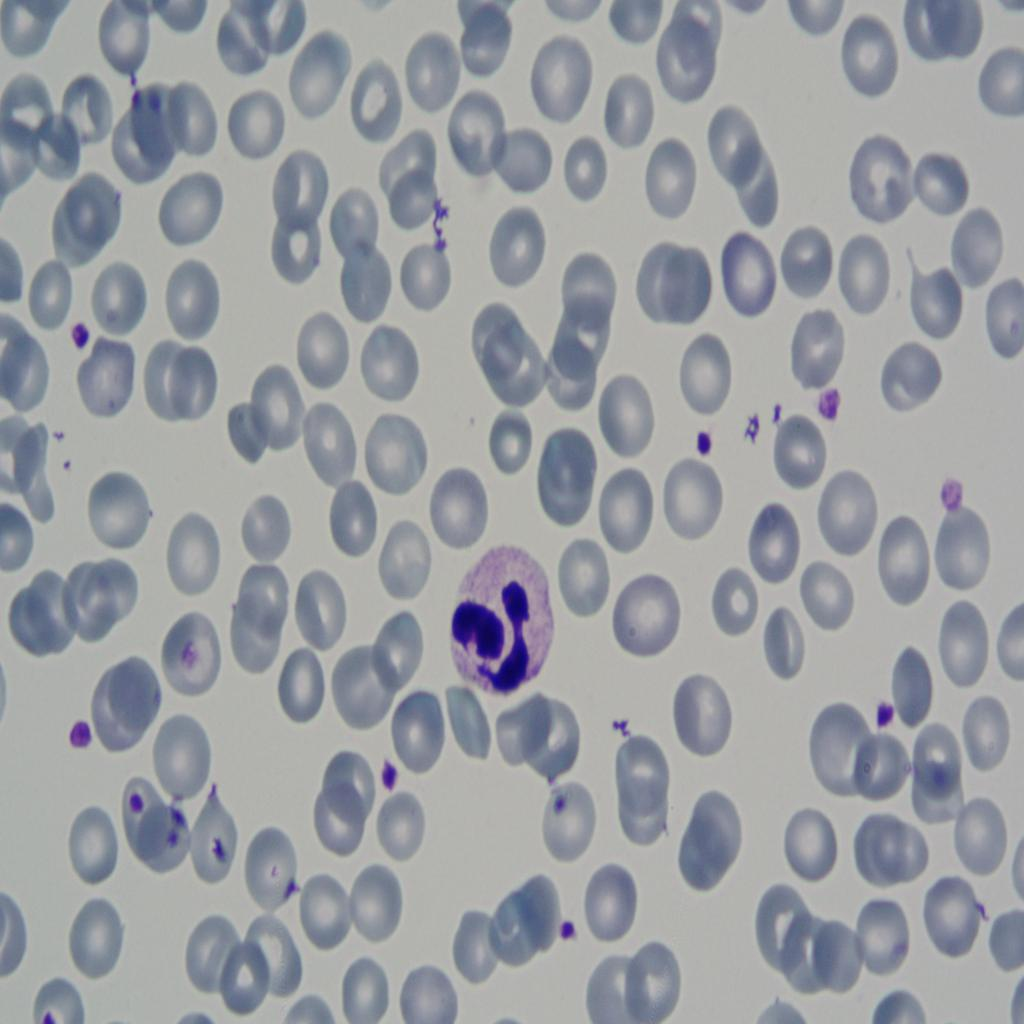Neutrofil: (444, 538, 552, 702)
Platelet: (868, 688, 900, 744), (935, 469, 966, 523), (812, 377, 844, 428), (128, 782, 157, 834), (69, 717, 99, 755), (205, 832, 232, 872), (553, 910, 579, 951), (687, 420, 716, 456), (62, 309, 86, 352), (380, 761, 401, 801), (160, 820, 181, 859), (147, 82, 163, 121)
